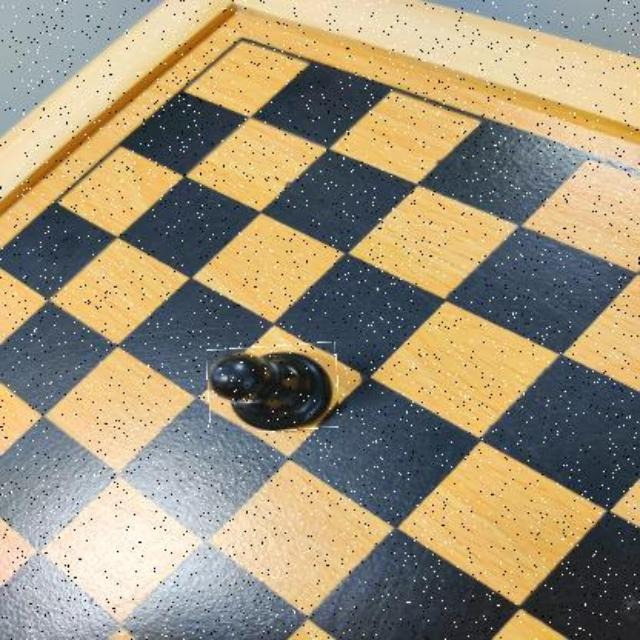black-pawn: (208, 344, 340, 432)
